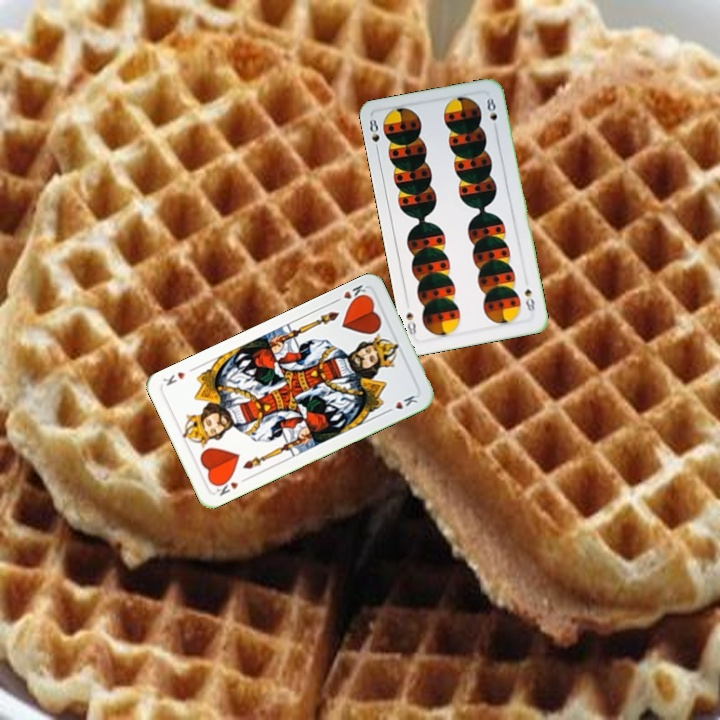HK: (330, 281, 371, 306), (209, 474, 250, 498)
S8: (365, 115, 383, 155), (520, 285, 537, 314)
